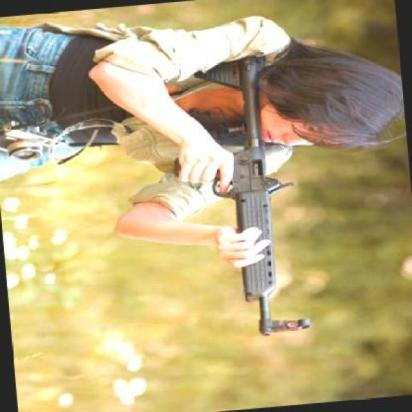Gun: (188, 52, 288, 350)
